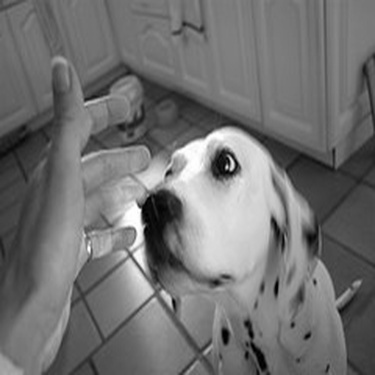dog: (122, 117, 366, 369)
